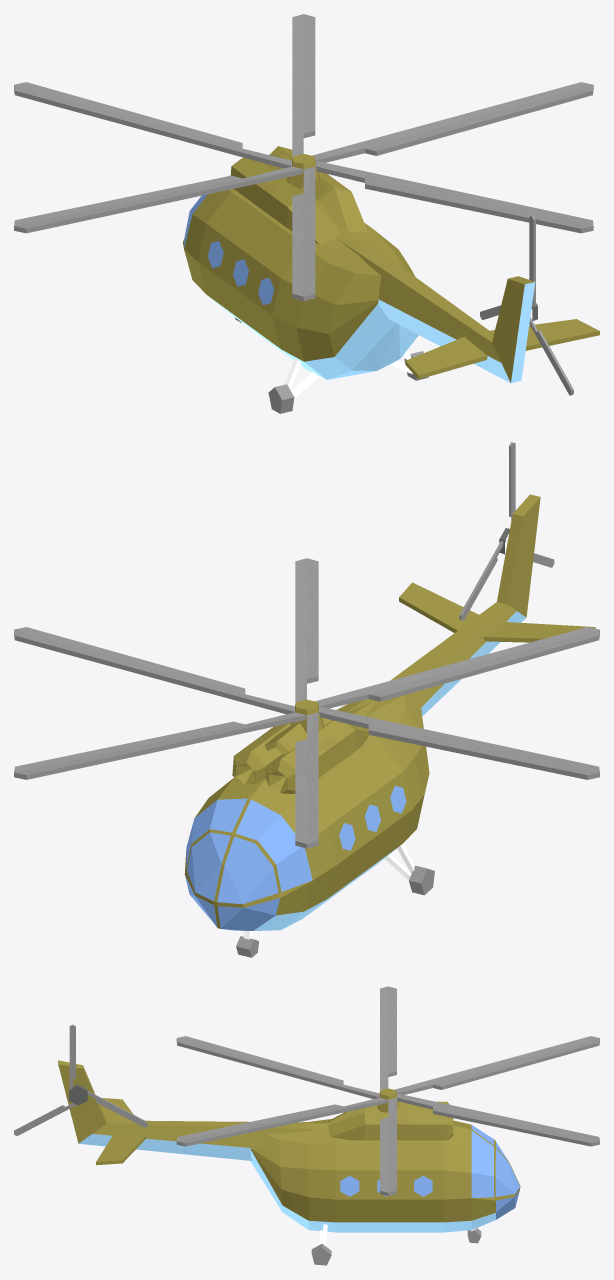
Rendered from transport_air.002.glb.
The picture shows the model from 3 angles, top to bottom: view 1: azimuth 30°, elevation 25°; view 2: azimuth 150°, elevation 25°; view 3: azimuth 270°, elevation 25°; orthographic projection. The views are drawn at different scales.
Visible parts, largest first — view 1: transport_air.002(Clone); view 2: transport_air.002(Clone); view 3: transport_air.002(Clone).
Part boxes in pixels (left/top/right/bottom): transport_air.002(Clone): left=14, top=14, right=599, bottom=413; transport_air.002(Clone): left=14, top=442, right=599, bottom=957; transport_air.002(Clone): left=14, top=986, right=599, bottom=1265.
Bounding box in the file's own units: 12.8 × 6.37 × 15.34.
Materials: 1 (1 with a texture image).
